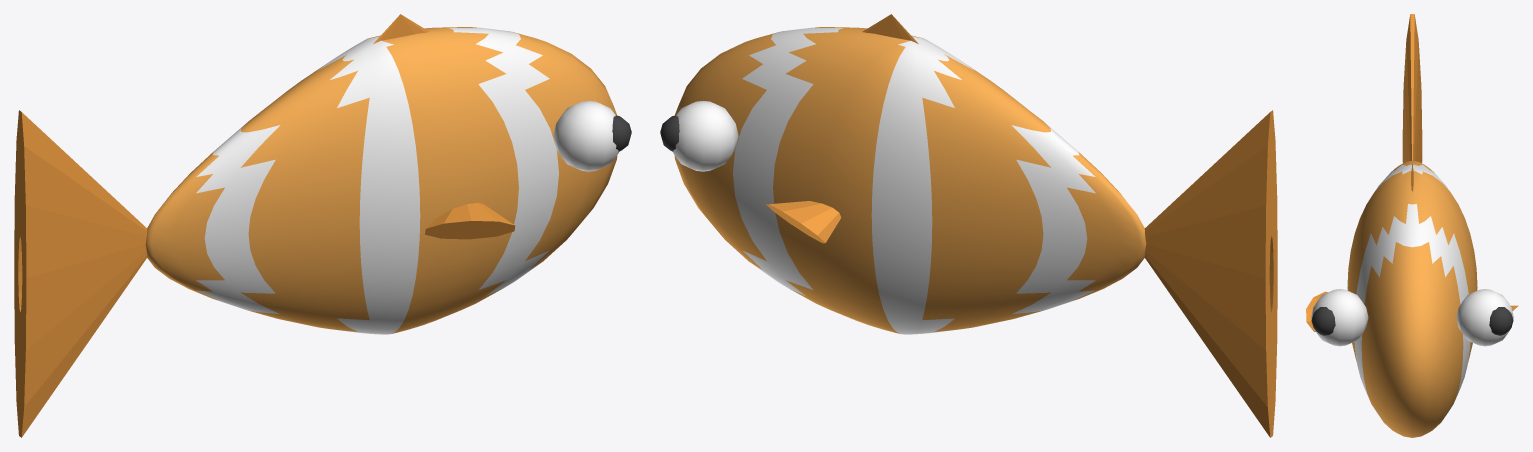
The model's file is balik.glb.
The picture shows the model from 3 angles, left to right: view 1: azimuth 30°, elevation 25°; view 2: azimuth 150°, elevation 25°; view 3: azimuth 270°, elevation 25°; orthographic projection. The views are drawn at different scales.
Parts seen in each view (by area): view 1: Balik; view 2: Balik; view 3: Balik.
Part boxes in pixels (x1,y1,x2,y2): Balik: (14,14,631,437); Balik: (660,14,1277,437); Balik: (1306,14,1518,437).
Bounding box in the file's own units: 0.95 × 0.5025 × 0.3628.
